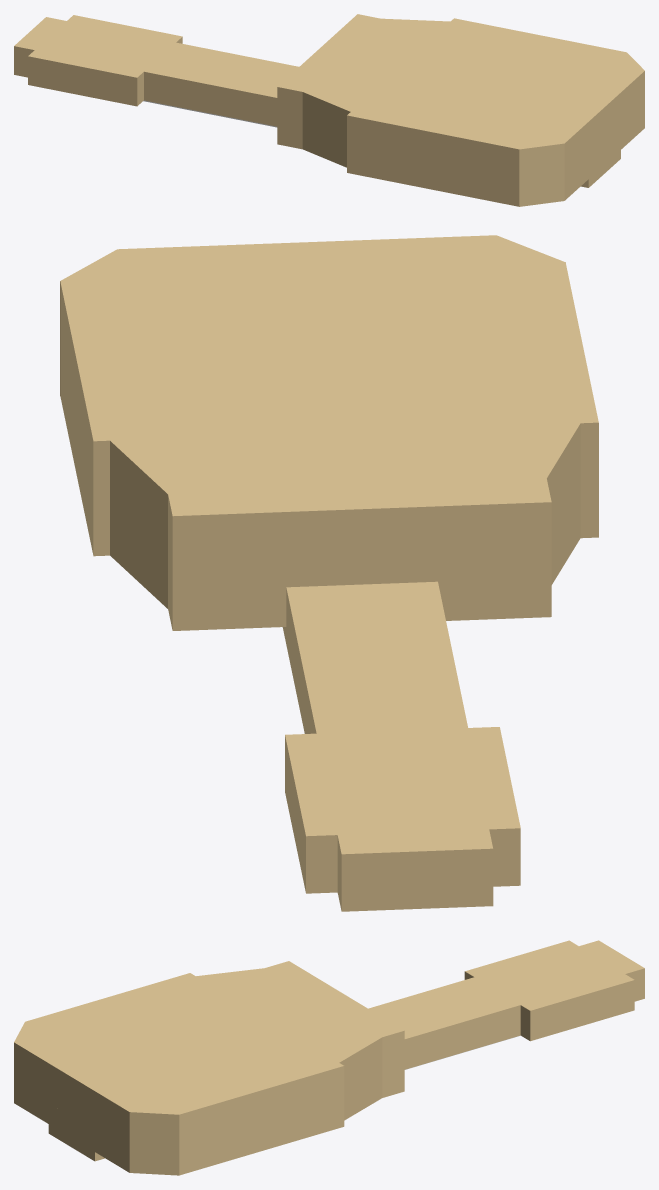
File: lute.dae
The picture shows the model from 3 angles, top to bottom: view 1: azimuth 30°, elevation 25°; view 2: azimuth 150°, elevation 25°; view 3: azimuth 270°, elevation 25°; orthographic projection. The views are drawn at different scales.
Parts seen in each view (by area): view 1: Cube.2973, Cube.1022, Cube.1023, Cube.2978, Cube.2975, Cube.2977, Cube.2974, Cube.2976; view 2: Cube.1022, Cube.2973, Cube.1023, Cube.2978, Cube.2974, Cube.2975, Cube.2976, Cube.2977; view 3: Cube.2973, Cube.1022, Cube.1023, Cube.2978, Cube.2974, Cube.2976, Cube.2975, Cube.2977.
Boxes of the visible parts, bbox=[...] form: Cube.2973: bbox=[347, 18, 625, 206]; Cube.1022: bbox=[277, 14, 644, 200]; Cube.1023: bbox=[14, 17, 620, 187]; Cube.2978: bbox=[28, 15, 182, 106]; Cube.2975: bbox=[287, 66, 398, 167]; Cube.2977: bbox=[501, 118, 564, 206]; Cube.2974: bbox=[354, 18, 454, 47]; Cube.2976: bbox=[576, 52, 644, 80]; Cube.1022: bbox=[118, 235, 551, 630]; Cube.2973: bbox=[60, 262, 598, 556]; Cube.1023: bbox=[282, 581, 493, 911]; Cube.2978: bbox=[285, 727, 520, 893]; Cube.2974: bbox=[109, 420, 294, 608]; Cube.2975: bbox=[439, 405, 582, 584]; Cube.2976: bbox=[60, 249, 217, 395]; Cube.2977: bbox=[411, 235, 565, 301]; Cube.2973: bbox=[25, 973, 344, 1175]; Cube.1022: bbox=[14, 961, 404, 1172]; Cube.1023: bbox=[48, 940, 644, 1161]; Cube.2978: bbox=[464, 940, 634, 1041]; Cube.2974: bbox=[282, 1013, 393, 1120]; Cube.2976: bbox=[129, 1084, 187, 1175]; Cube.2975: bbox=[191, 966, 304, 999]; Cube.2977: bbox=[14, 1022, 89, 1048].
Size of the model in its own units: 1.51 by 1.88 by 0.2545.
